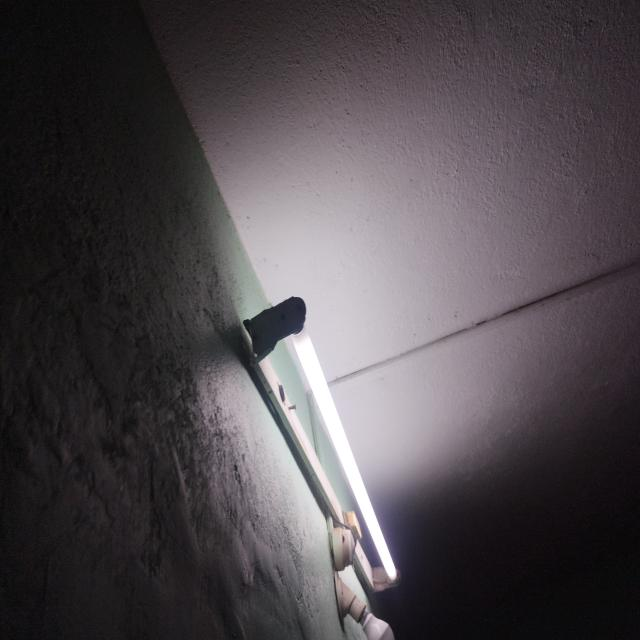tubelight_on: (237, 291, 401, 601)
